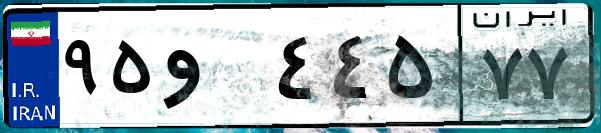4: (270, 28, 330, 110), (330, 28, 385, 110)
5: (385, 28, 445, 110), (110, 28, 158, 98)
7: (475, 38, 525, 113), (525, 38, 570, 115)
9: (57, 26, 110, 100)
و: (158, 20, 270, 120)
